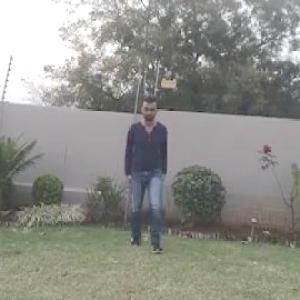follow: (128, 88, 183, 263)
